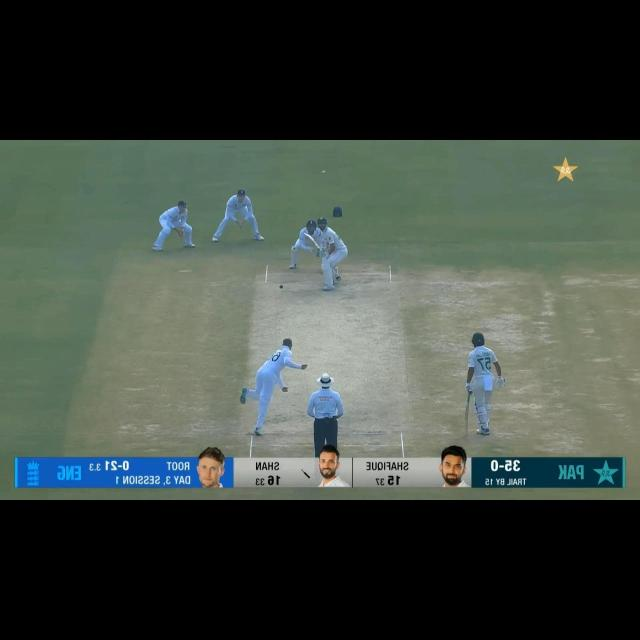bat: (303, 231, 320, 248), (462, 406, 471, 436)
toe: (464, 431, 469, 437), (303, 232, 307, 236)
